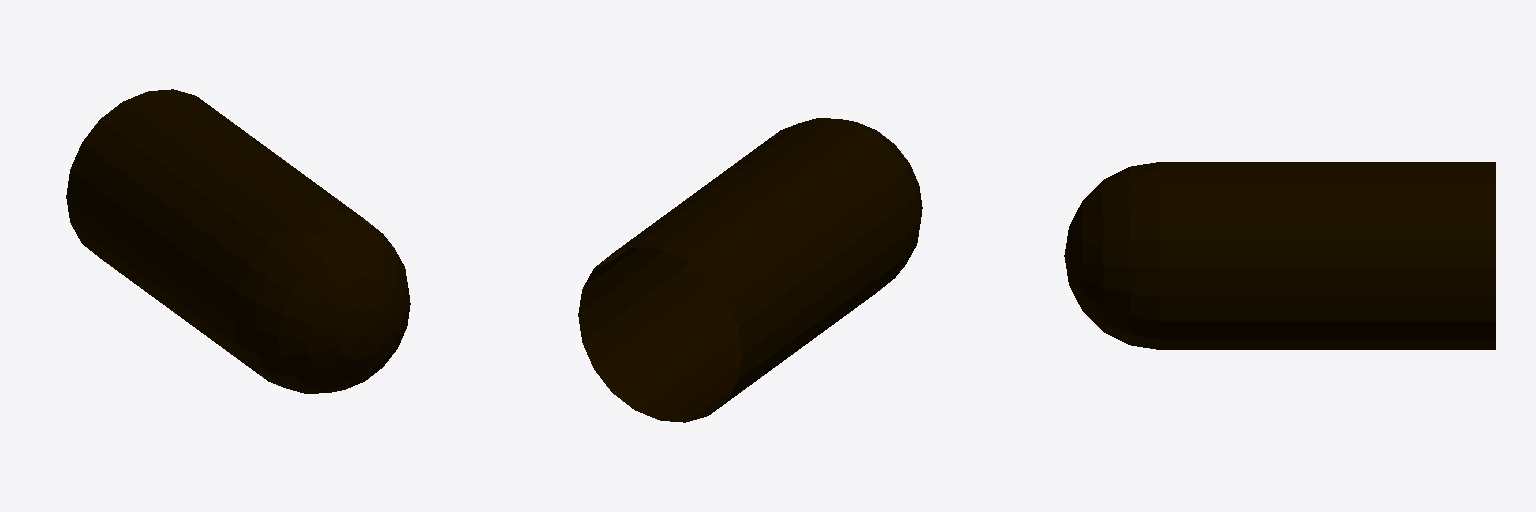
File: Bala.obj
3 views of the same model, side by side, from view 1: azimuth 30°, elevation 25°; view 2: azimuth 150°, elevation 25°; view 3: azimuth 270°, elevation 25° (orthographic).
Visible parts, largest first — view 1: Colt_Colt_Colt_blinn2SG; view 2: Colt_Colt_Colt_blinn2SG; view 3: Colt_Colt_Colt_blinn2SG.
Boxes of the visible parts, x1=… form: Colt_Colt_Colt_blinn2SG: x1=66, y1=89, x2=410, y2=393; Colt_Colt_Colt_blinn2SG: x1=578, y1=118, x2=922, y2=422; Colt_Colt_Colt_blinn2SG: x1=1064, y1=162, x2=1495, y2=349.
Bounding box in the file's own units: 0.377 × 0.377 × 0.8586.